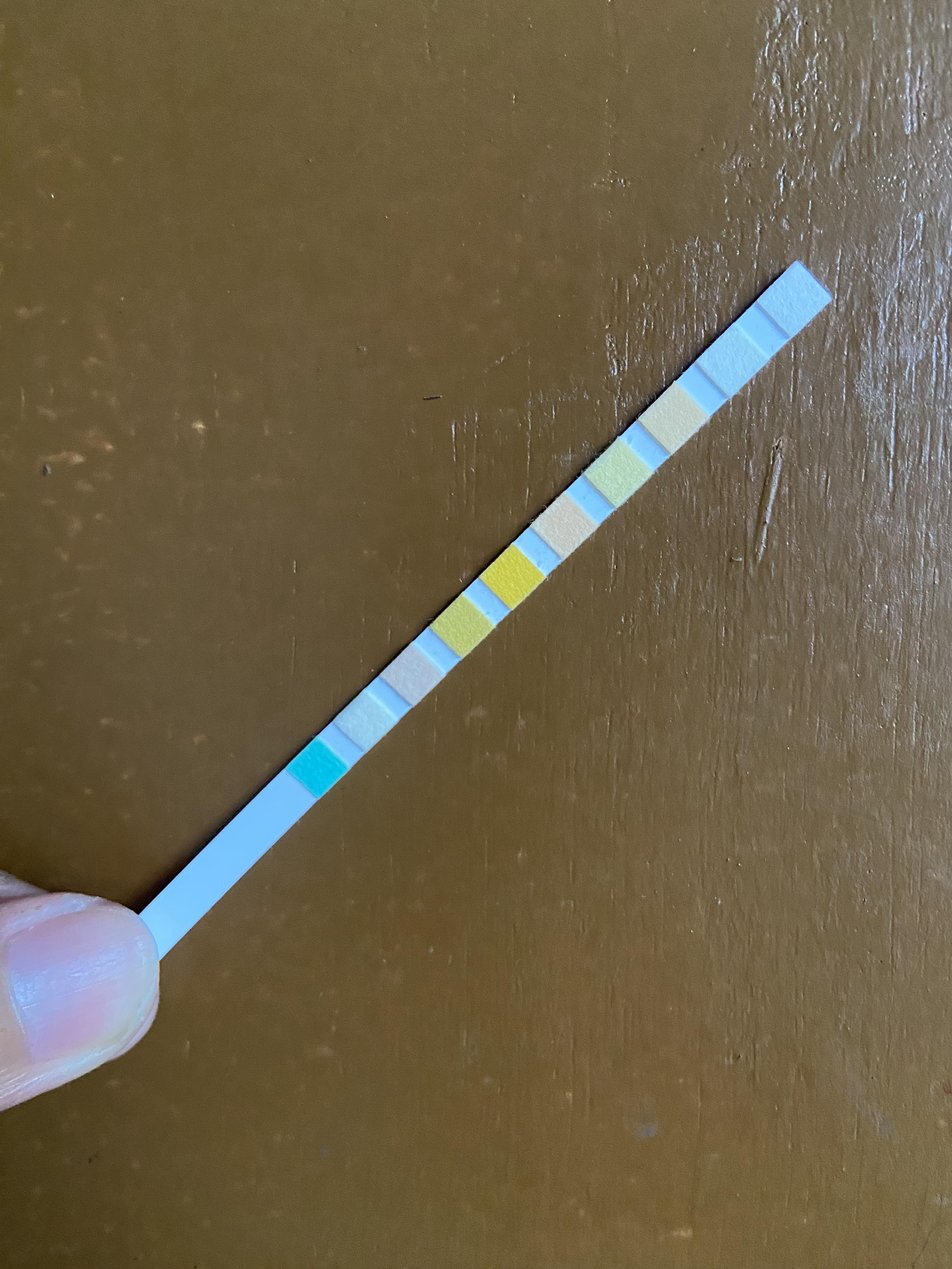Bilirubin: (348, 706, 384, 737)
Blood: (492, 562, 532, 591)
Glucose: (299, 753, 337, 782)
Ketone: (394, 659, 432, 690)
Leukocytes: (775, 281, 816, 316)
Nitrite: (712, 344, 752, 377)
Protein: (599, 457, 638, 489)
SpGravity: (443, 612, 480, 641)
Urobilinogen: (657, 399, 692, 437)
pH: (546, 509, 583, 543)
strip: (149, 259, 832, 939)
